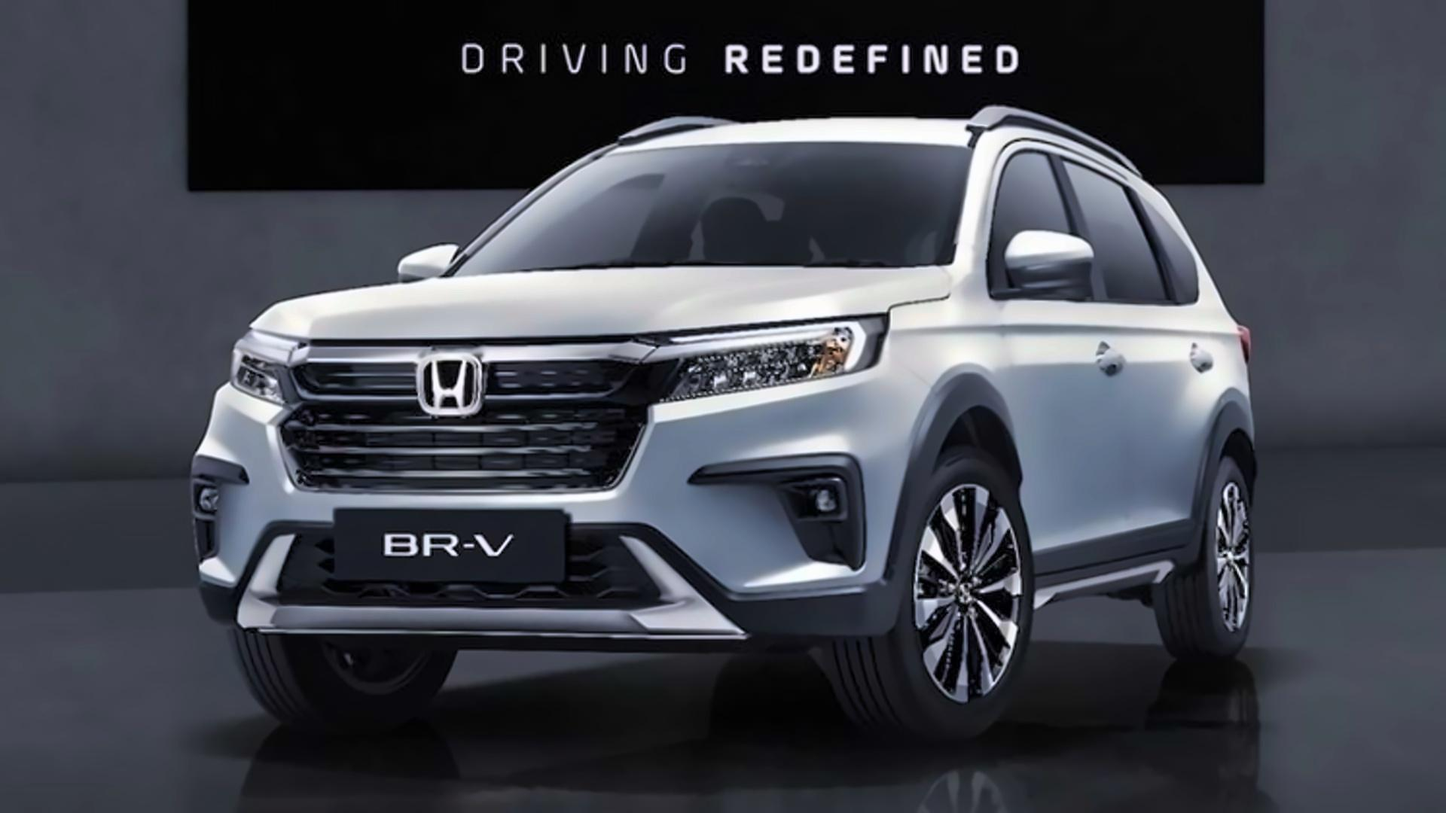Car hood: (246, 259, 955, 344)
Fender - -F-L-: (878, 260, 1035, 595)
Fender - -R-L-: (1213, 322, 1258, 464)
Front bumper: (184, 381, 933, 650)
Passenger-s door - -F-L-: (999, 125, 1125, 586)
Passenger-s door - -R-L-: (1096, 148, 1225, 582)
Rear light - -L-: (646, 307, 895, 412), (1220, 289, 1260, 371)
Side bumper - -L-: (1023, 515, 1215, 619)
Side mirror - -L-: (991, 226, 1106, 304)
Side mirror - -R-: (226, 316, 307, 416), (393, 231, 469, 286)
